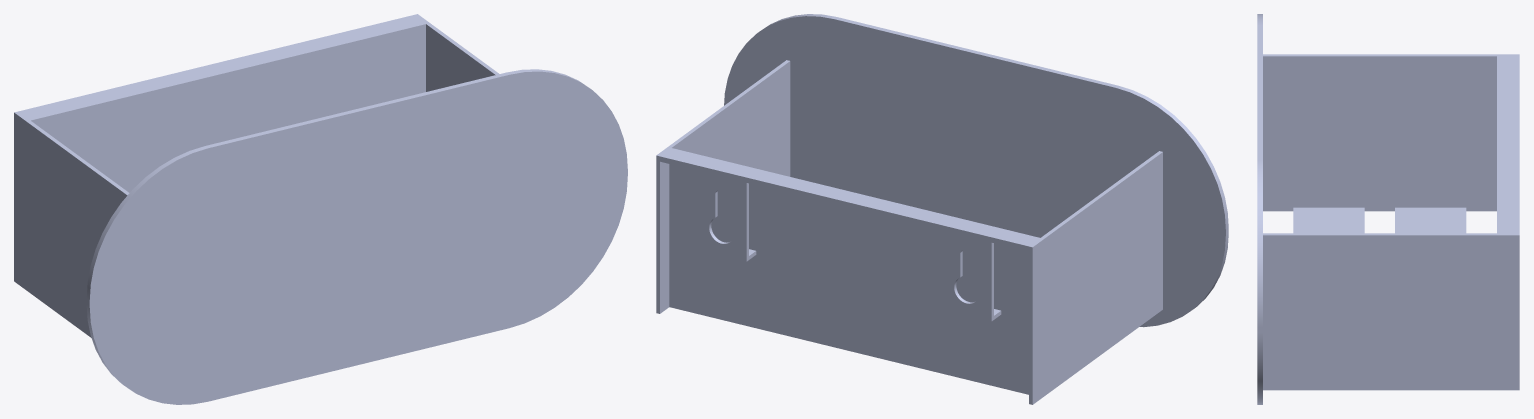
File: round-mono.9bc7d11755.glb
3 renders of one model, left to right at view 1: azimuth 30°, elevation 25°; view 2: azimuth 150°, elevation 25°; view 3: azimuth 270°, elevation 25°, orthographic. The views are drawn at different scales.
Visible parts, largest first — view 1: NAUO1; view 2: NAUO1; view 3: NAUO1.
Boxes of the visible parts, <box> form: NAUO1: <box>14,14,627,404</box>; NAUO1: <box>656,14,1228,404</box>; NAUO1: <box>1257,14,1519,404</box>.
Bounding box in the file's own units: 0.2 × 0.09 × 0.092.
